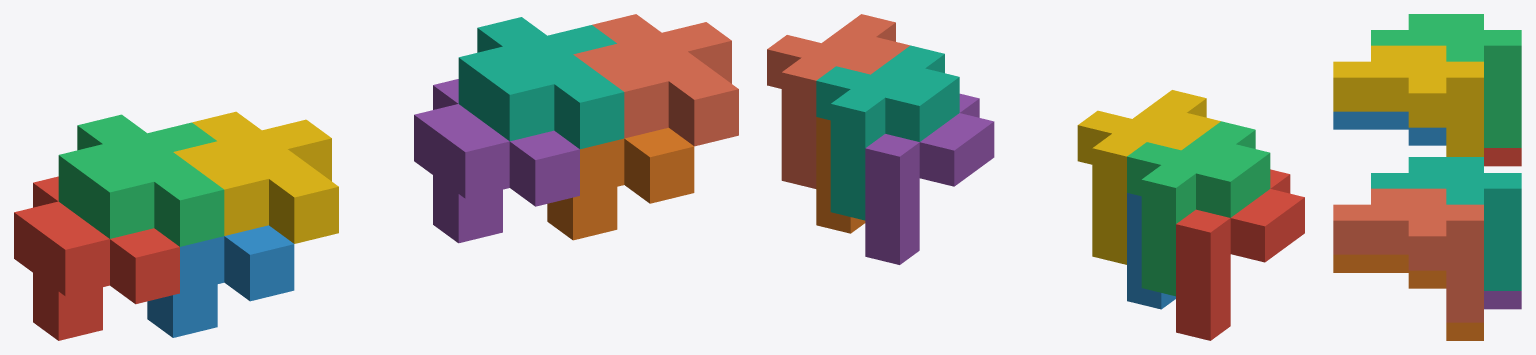
File: tiling.obj
The picture shows the model from 3 angles, left to right: view 1: azimuth 30°, elevation 25°; view 2: azimuth 150°, elevation 25°; view 3: azimuth 270°, elevation 25°; orthographic projection. The views are drawn at different scales.
Parts seen in each view (by area): view 1: copy_1_domain_3, copy_1_domain_7, copy_1_domain_5, copy_1_domain_1, copy_1_domain_8, copy_1_domain_4, copy_1_domain_6, copy_1_domain_2; view 2: copy_1_domain_7, copy_1_domain_3, copy_1_domain_5, copy_1_domain_1, copy_1_domain_8, copy_1_domain_4, copy_1_domain_6, copy_1_domain_2; view 3: copy_1_domain_8, copy_1_domain_4, copy_1_domain_3, copy_1_domain_7, copy_1_domain_6, copy_1_domain_2, copy_1_domain_1, copy_1_domain_5.
Boxes of the visible parts, x1,y1,x2,y2 form: copy_1_domain_3: [58, 114, 224, 246]; copy_1_domain_7: [458, 17, 624, 149]; copy_1_domain_5: [414, 79, 579, 243]; copy_1_domain_1: [14, 176, 179, 340]; copy_1_domain_8: [573, 14, 738, 146]; copy_1_domain_4: [173, 111, 338, 243]; copy_1_domain_6: [547, 127, 694, 240]; copy_1_domain_2: [147, 225, 294, 337]; copy_1_domain_7: [816, 45, 959, 220]; copy_1_domain_3: [1127, 121, 1270, 296]; copy_1_domain_5: [865, 93, 994, 264]; copy_1_domain_1: [1176, 169, 1304, 340]; copy_1_domain_8: [767, 14, 909, 188]; copy_1_domain_4: [1077, 90, 1220, 264]; copy_1_domain_6: [816, 117, 865, 233]; copy_1_domain_2: [1127, 193, 1175, 309]; copy_1_domain_8: [1333, 188, 1483, 322]; copy_1_domain_4: [1333, 45, 1483, 156]; copy_1_domain_3: [1371, 14, 1521, 147]; copy_1_domain_7: [1371, 157, 1521, 290]; copy_1_domain_6: [1333, 254, 1483, 340]; copy_1_domain_2: [1333, 111, 1446, 145]; copy_1_domain_1: [1484, 148, 1521, 166]; copy_1_domain_5: [1484, 291, 1521, 309].
Size of the model in its own units: 15 by 4 by 5.
